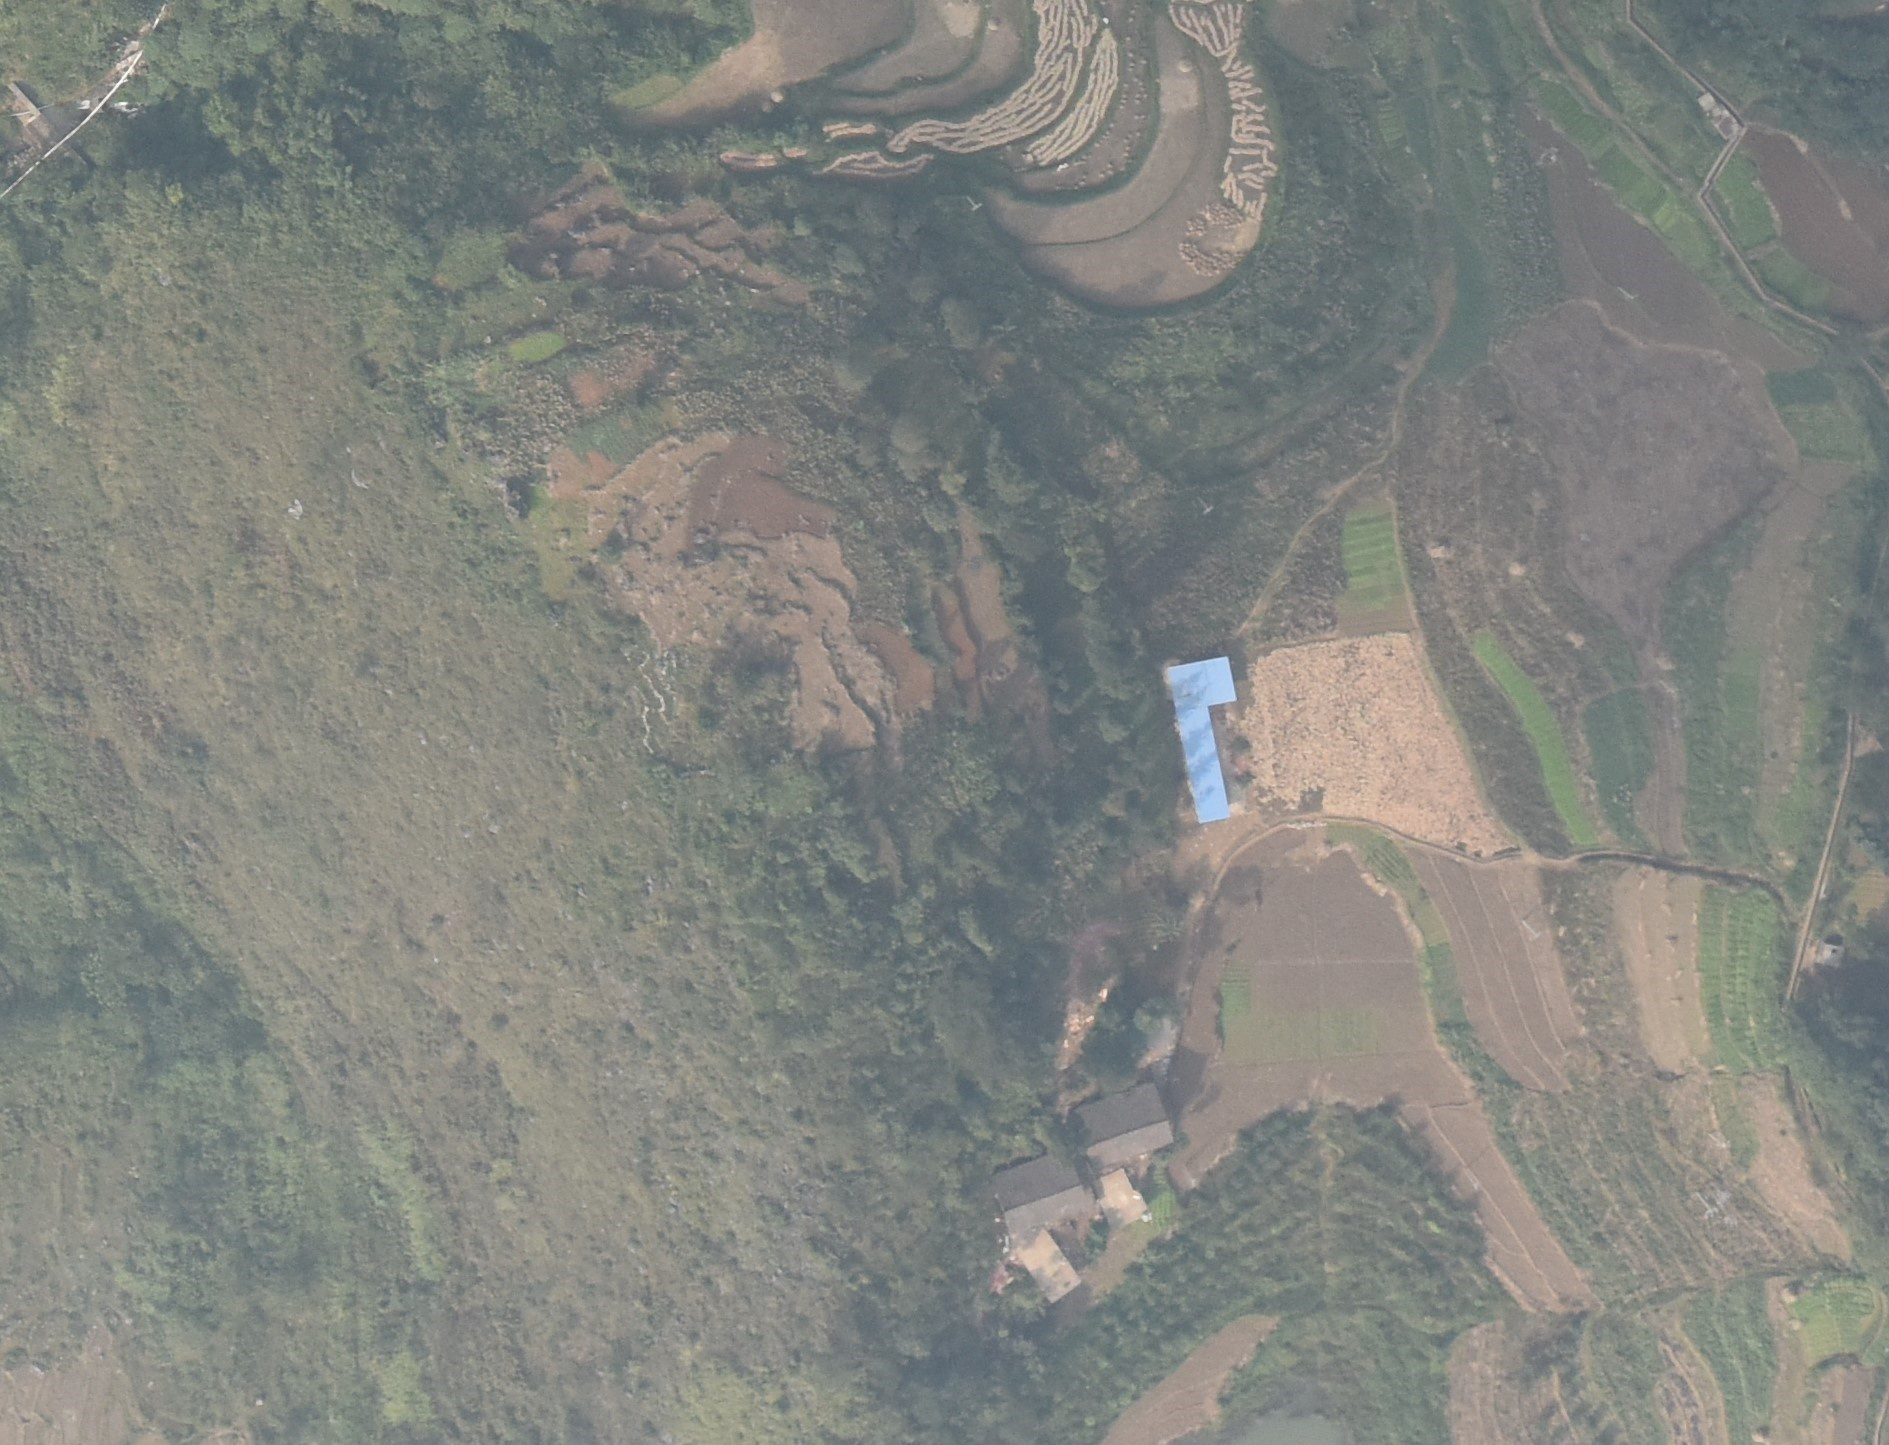building: (745, 1151, 818, 1234), (807, 1082, 882, 1161), (760, 1229, 812, 1305), (824, 1172, 865, 1220)
prefabricated-house: (874, 656, 933, 824)
